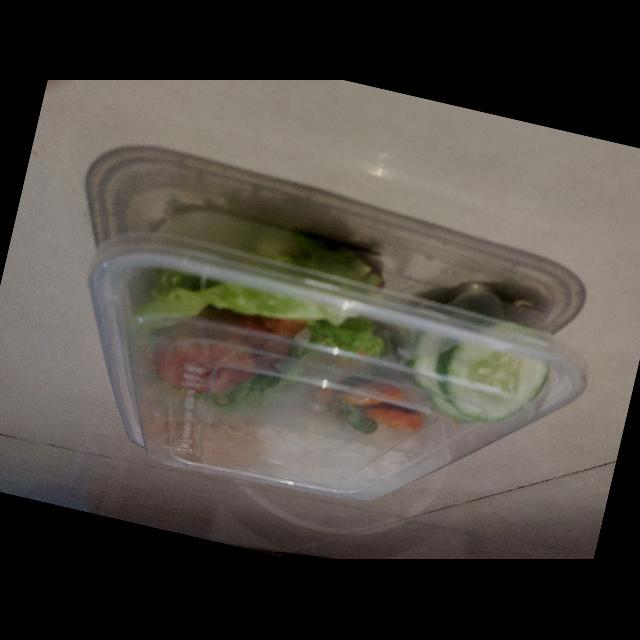bento: (95, 208, 590, 506)
